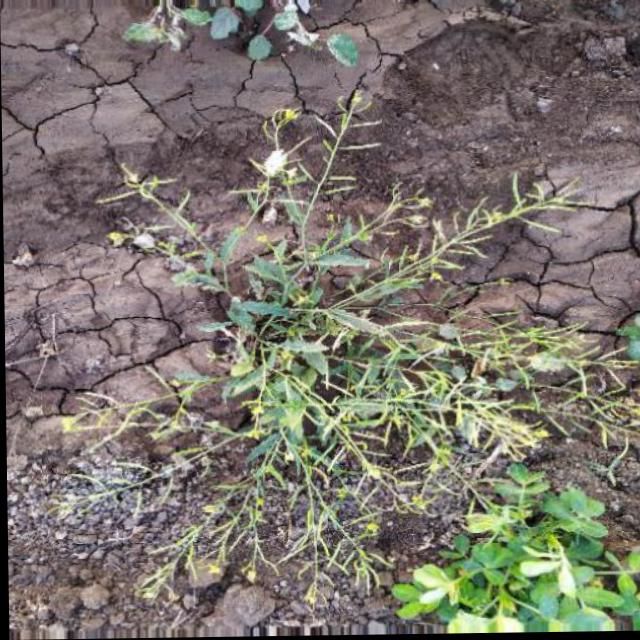weed: (77, 88, 640, 598)
